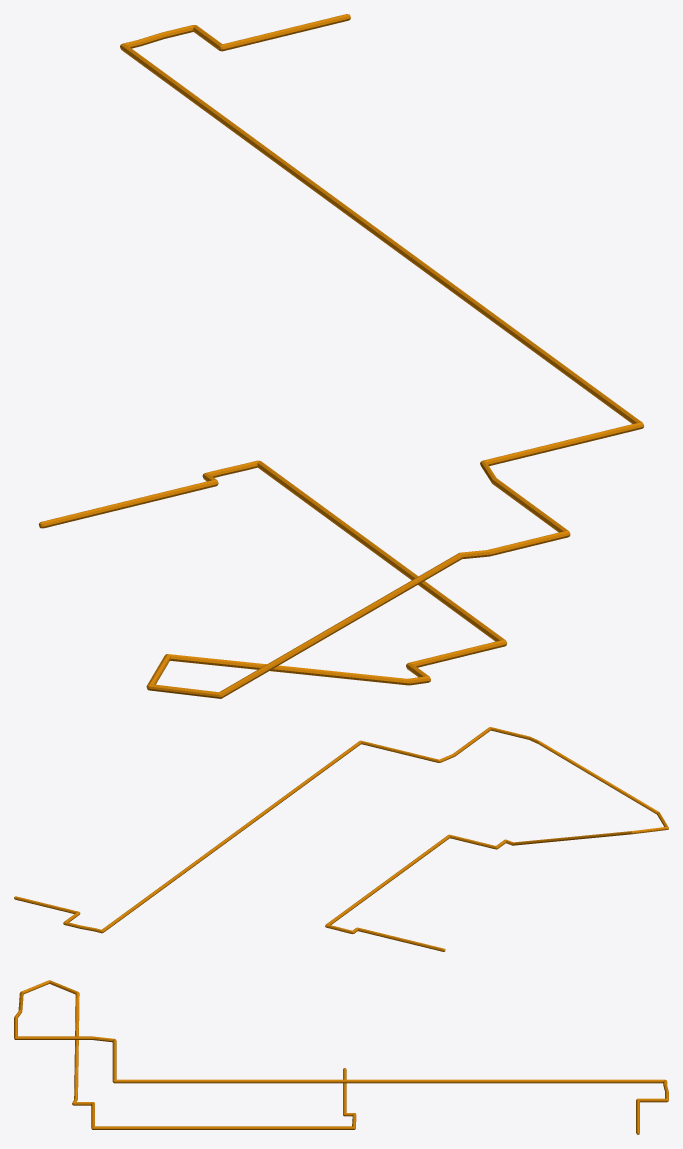
3 renders of one model, top to bottom at view 1: azimuth 30°, elevation 25°; view 2: azimuth 150°, elevation 25°; view 3: azimuth 270°, elevation 25°, orthographic. The views are drawn at different scales.
Bounding box in the file's own units: 2406 × 520 × 3390.
